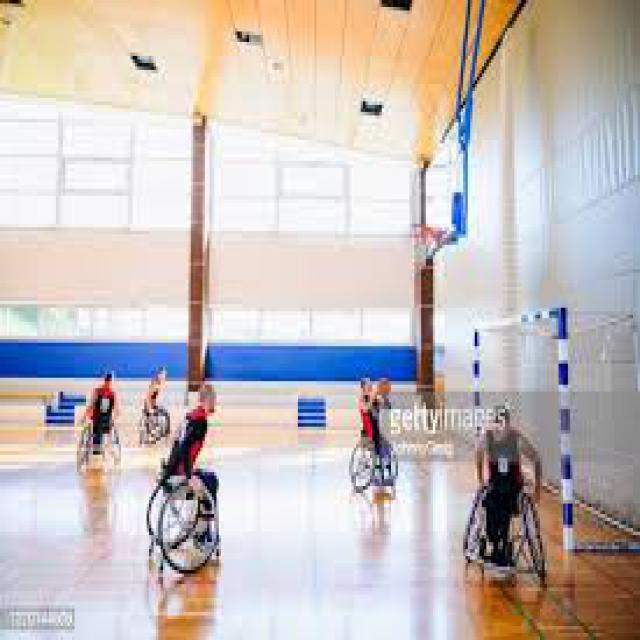wheelchairs: (147, 451, 230, 570), (454, 468, 547, 566), (349, 426, 405, 486), (63, 420, 119, 476), (130, 398, 166, 441)
